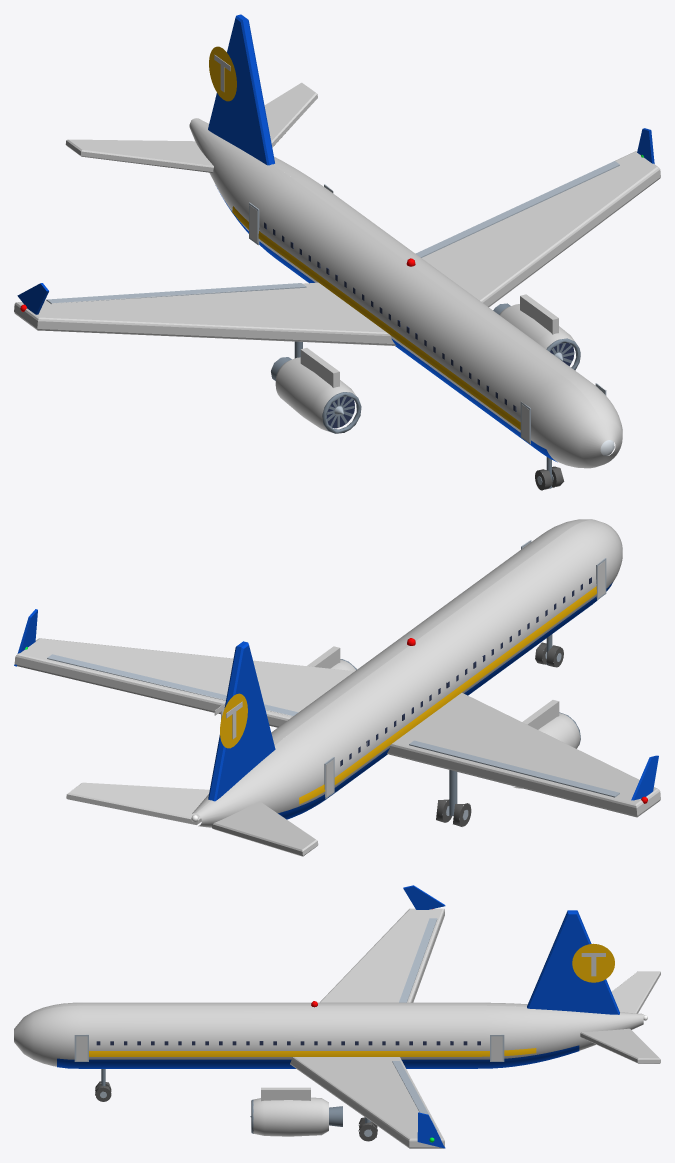
Rendered from avion-a320.glb.
3 renders of one model, top to bottom at view 1: azimuth 30°, elevation 25°; view 2: azimuth 150°, elevation 25°; view 3: azimuth 270°, elevation 25°, orthographic. The views are drawn at different scales.
Visible parts, largest first — view 1: corps__blanc, corps__bleu, corps__gris_clair, corps__jaune, corps__bleu_fonce, corps__bleu_nuit; view 2: corps__blanc, corps__bleu, corps__jaune, corps__gris_clair, train_principal__gris_fonce, corps__bleu_nuit, train_avant__gris_fonce; view 3: corps__blanc, corps__bleu, corps__jaune, corps__gris_clair, corps__bleu_nuit.
Part boxes in pixels (<box>): corps__blanc: <box>14,54,660,468</box>; corps__bleu: <box>17,14,654,462</box>; corps__gris_clair: <box>46,161,619,444</box>; corps__jaune: <box>209,46,520,429</box>; corps__bleu_fonce: <box>271,303,580,433</box>; corps__bleu_nuit: <box>264,222,574,428</box>; corps__blanc: <box>14,519,660,856</box>; corps__bleu: <box>14,582,658,819</box>; corps__jaune: <box>220,586,596,804</box>; corps__gris_clair: <box>47,540,619,798</box>; train_principal__gris_fonce: <box>436,799,471,826</box>; corps__bleu_nuit: <box>340,577,591,766</box>; train_avant__gris_fonce: <box>535,642,563,667</box>; corps__blanc: <box>14,908,660,1148</box>; corps__bleu: <box>57,885,619,1148</box>; corps__jaune: <box>89,943,614,1056</box>; corps__gris_clair: <box>74,918,504,1130</box>; corps__bleu_nuit: <box>96,1041,480,1045</box>.
Bounding box in the file's own units: 7.37 × 2.9 × 8.64.
